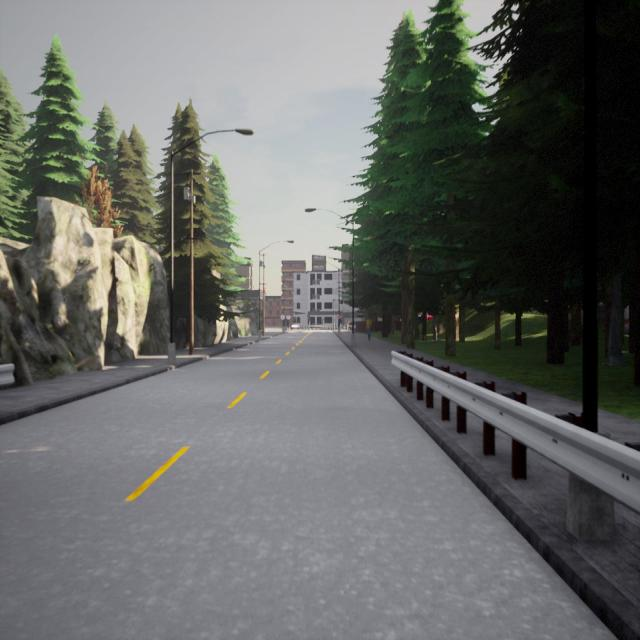Pedestrian: (367, 315, 372, 341)
Traffic_Signs: (280, 315, 285, 320), (286, 315, 291, 320)
Vehicle: (291, 323, 299, 329)
traffic_light: (264, 288, 266, 296)
